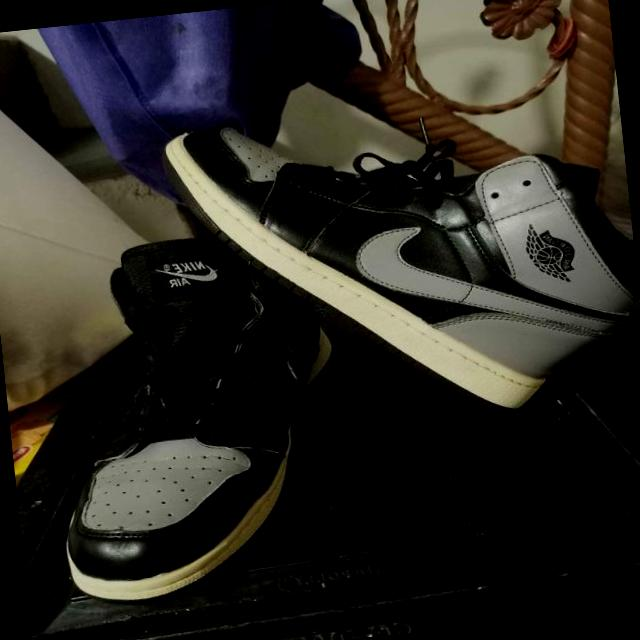nike_fake_jordan: (133, 72, 640, 457), (35, 224, 361, 610)
